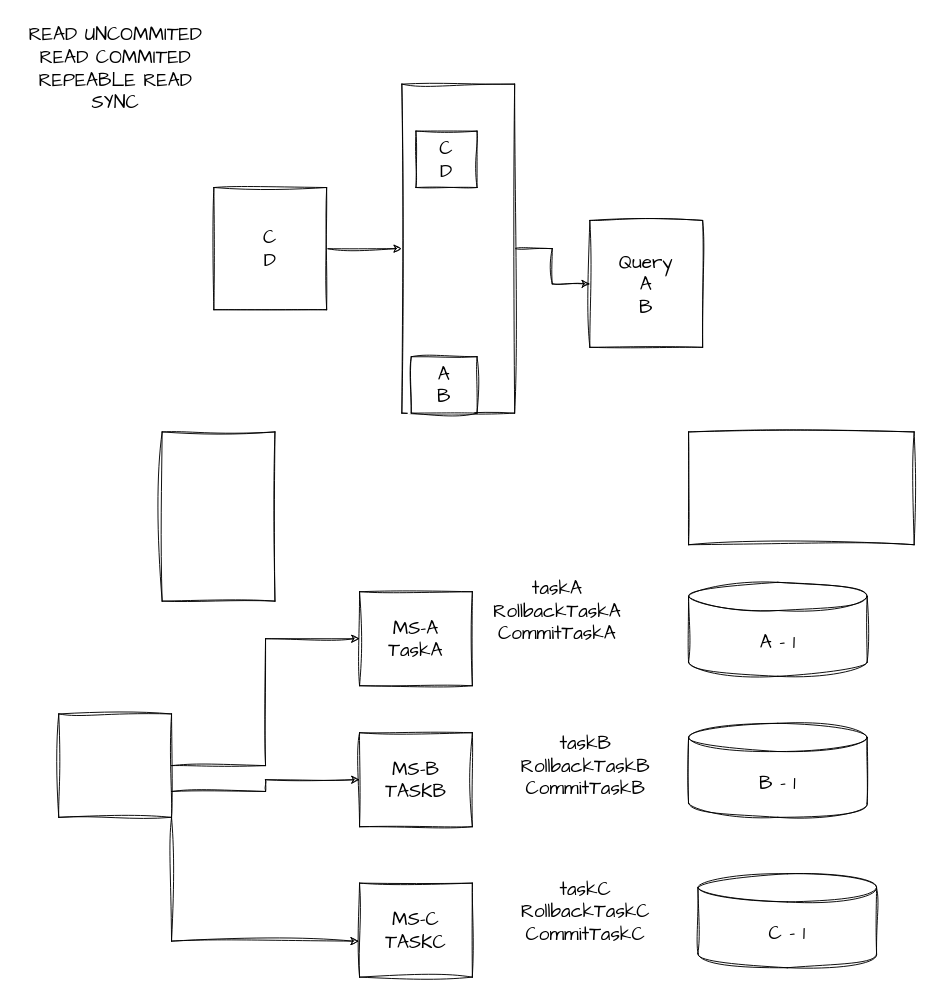
This 931x994 diagram has some shape labels left out. The box of each missing label's shape, as (x1, y1, x2, y2) in pixels:
Aggregate Data: (688, 431, 914, 545)
CLIENT: (58, 713, 172, 817)
DB A B C D: (401, 83, 515, 413)
QUEUE: (161, 431, 275, 601)
